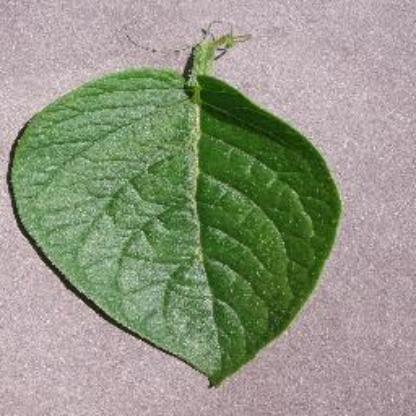Healthy-plant: (9, 22, 354, 386)
